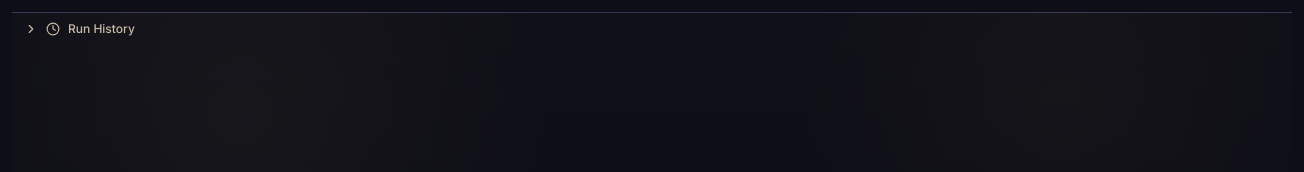
Test case: PipelineRunHistory › renders duration formatting and status badges for returned runs
Click the button "Run History": (101, 28) [12,13,1292,45]
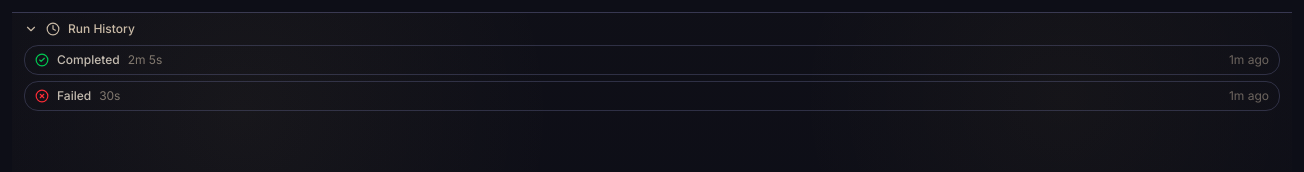
Now the text "Completed" is shown, box [57,52,120,68]
Now the text "Failed" is shown, box [57,88,91,104]
Now the text "2m 5s" is shown, box [128,52,162,68]
